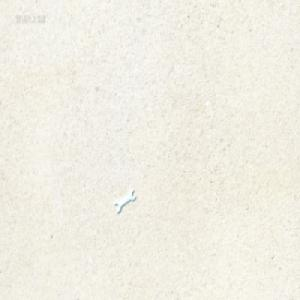Wrench: (114, 189, 136, 215)
